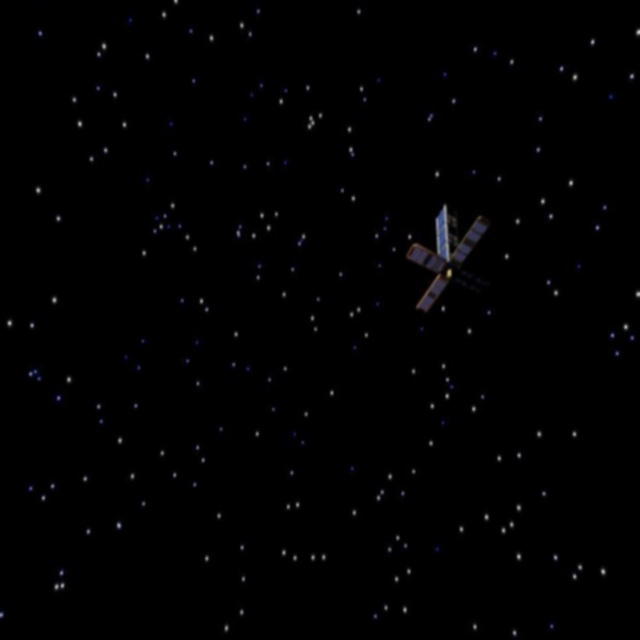medium_debris: (394, 182, 489, 318)
